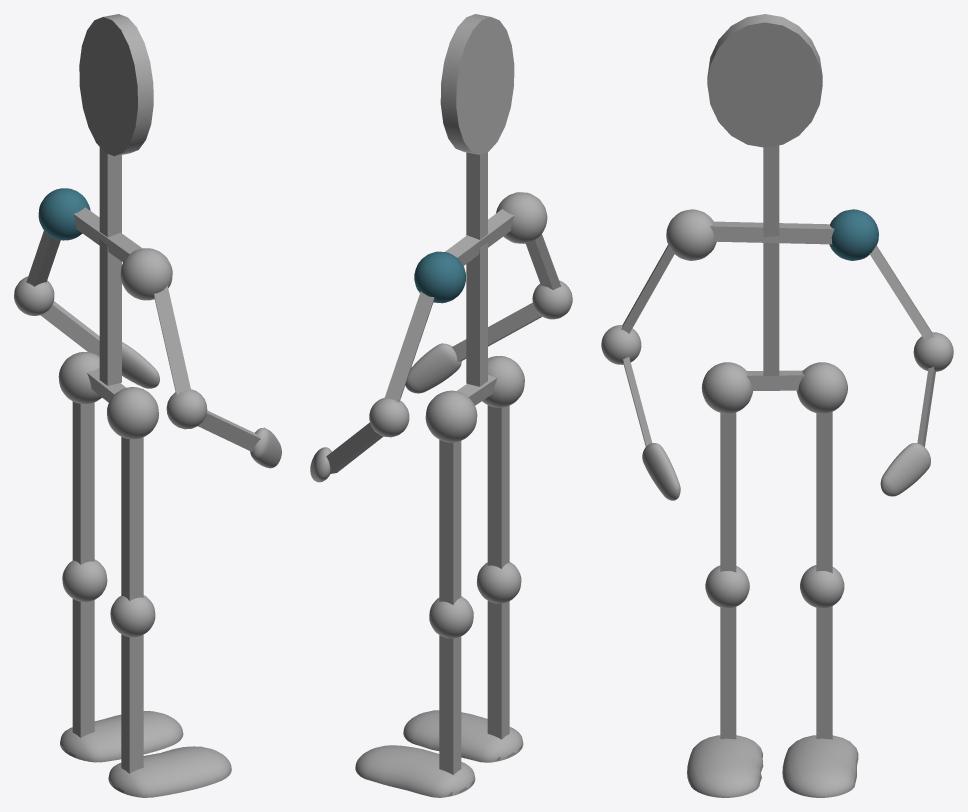
Rendered from stick figure.fbx.
3 renders of one model, left to right at view 1: azimuth 30°, elevation 25°; view 2: azimuth 150°, elevation 25°; view 3: azimuth 270°, elevation 25°, orthographic.
Visible parts, largest first — view 1: pSphere27_polySurface26; view 2: pSphere27_polySurface26; view 3: pSphere27_polySurface26.
Part boxes in pixels (bbox=[...]): pSphere27_polySurface26: bbox=[14, 14, 281, 797]; pSphere27_polySurface26: bbox=[310, 14, 572, 797]; pSphere27_polySurface26: bbox=[601, 14, 953, 797].
Size of the model in its own units: 4.43 by 21.51 by 9.28.
